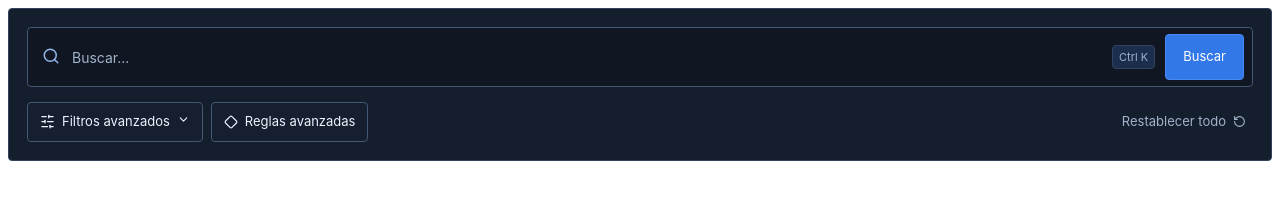
Generic SearchBar › selects a suggestion with ArrowDown + Enter and consumes text
Later steps or results of the test are not shown.
Step 1. Type "acc" into the dropdown labelled "Buscar" → (586, 57), box [70,38,1102,76]
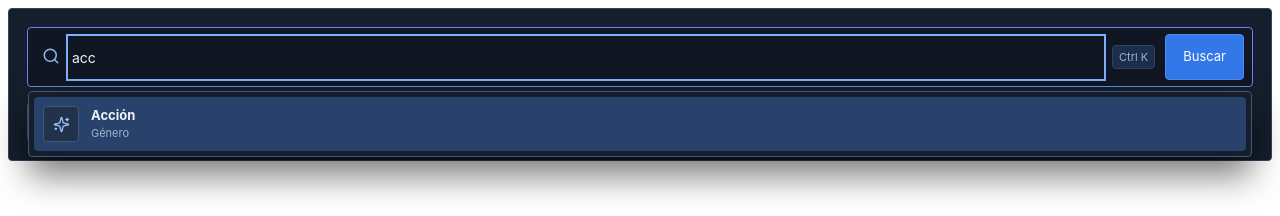
Expected: the text "Género" is shown, [91,126,135,141]
